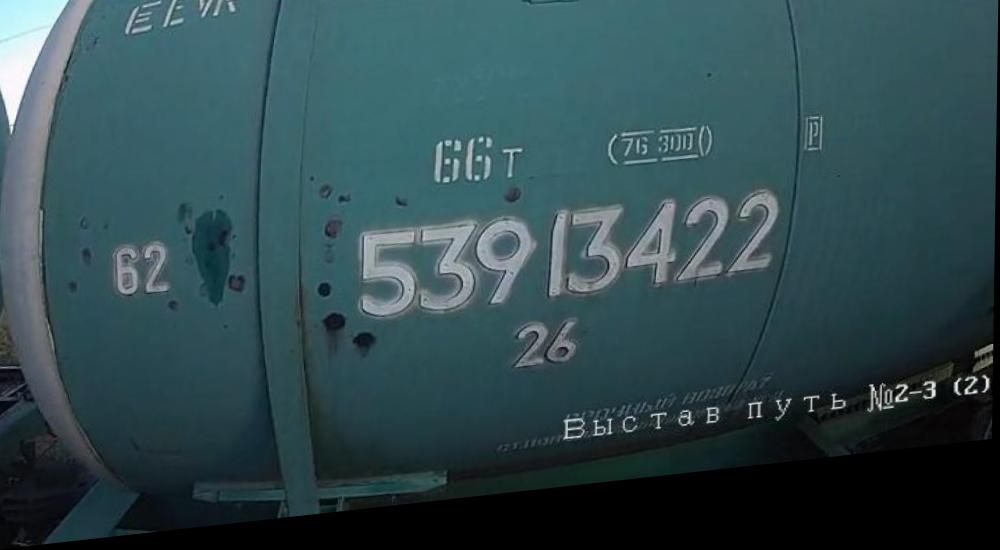Wagon-number: (353, 198, 782, 336)
